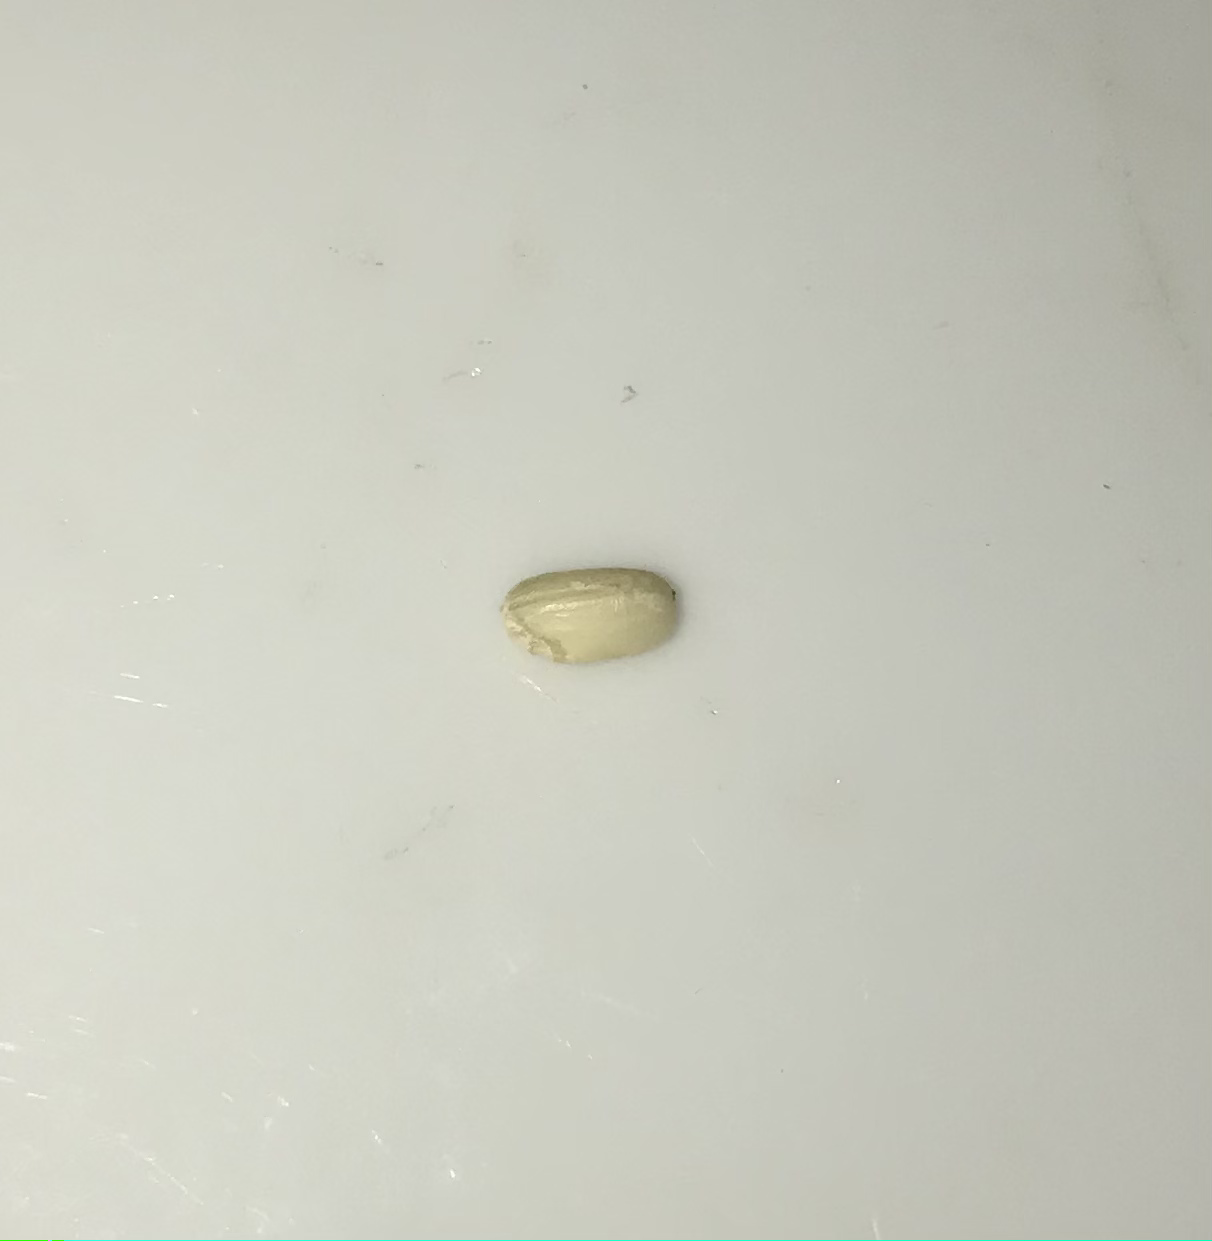Gao Lut Bac: (483, 548, 695, 678)
